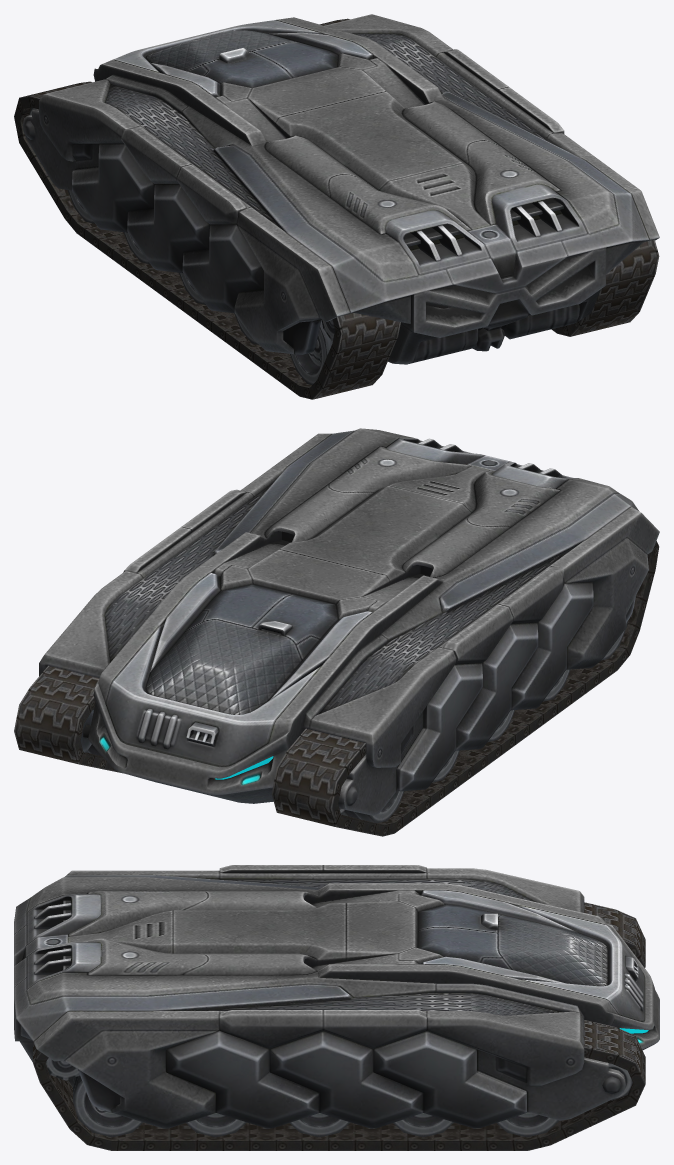
File: hornet_standard.gltf
3 renders of one model, top to bottom at view 1: azimuth 30°, elevation 25°; view 2: azimuth 150°, elevation 25°; view 3: azimuth 270°, elevation 25°, orthographic. The views are drawn at different scales.
Visible parts, largest first — view 1: Hull, lTrack, rTrack, lwheel_5; view 2: Hull, lTrack, rTrack, lwheel_1; view 3: Hull, rTrack, rwheel_5, lTrack, rwheel_1, rwheel_2, rwheel_4, rwheel_3, rwheel_b.
Part boxes in pixels (x1,y1,x2,y2): Hull: [23, 14, 659, 364]; lTrack: [14, 81, 400, 399]; rTrack: [320, 18, 659, 336]; lwheel_5: [290, 320, 332, 384]; Hull: [39, 428, 659, 815]; lTrack: [271, 541, 659, 836]; rTrack: [14, 665, 122, 773]; lwheel_1: [342, 790, 404, 823]; Hull: [14, 865, 659, 1128]; rTrack: [33, 1020, 645, 1150]; rwheel_5: [73, 1075, 142, 1137]; lTrack: [584, 902, 645, 967]; rwheel_1: [497, 1111, 559, 1137]; rwheel_2: [393, 1113, 453, 1137]; rwheel_4: [186, 1113, 246, 1137]; rwheel_3: [289, 1113, 350, 1137]; rwheel_b: [45, 1058, 79, 1080].
Size of the model in its own units: 3.05 by 1.35 by 5.22.
2 materials, 2 textured.
